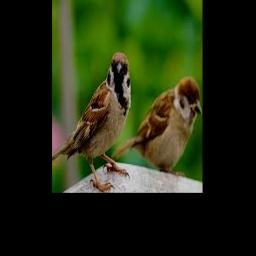Sparrow: (52, 52, 130, 191), (112, 77, 201, 176)
